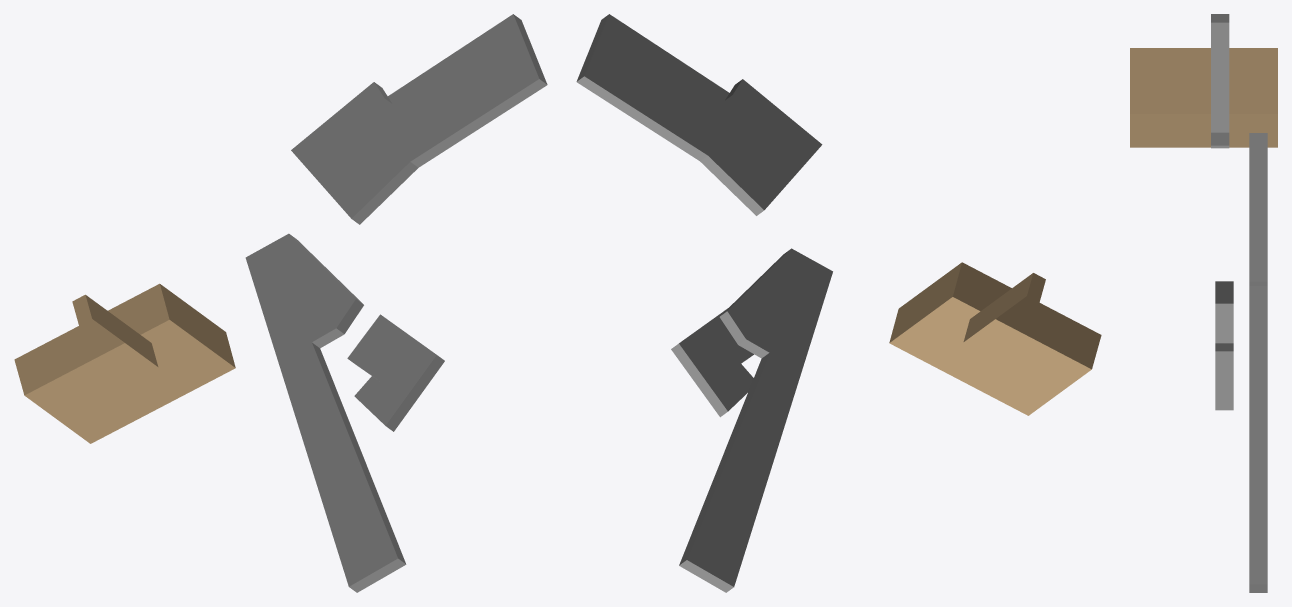
3 views of the same model, side by side, from view 1: azimuth 30°, elevation 25°; view 2: azimuth 150°, elevation 25°; view 3: azimuth 270°, elevation 25° (orthographic). The views are drawn at different scales.
Visible parts, largest first — view 1: 0_1_1_3_3_0_0_2; view 2: 0_1_1_3_3_0_0_2; view 3: 0_1_1_3_3_0_0_2.
Boxes of the visible parts, <box> form: 0_1_1_3_3_0_0_2: <box>14,14,547,592</box>; 0_1_1_3_3_0_0_2: <box>576,14,1101,592</box>; 0_1_1_3_3_0_0_2: <box>1130,14,1277,592</box>.
Bounding box in the file's own units: 105 × 110 × 24.
